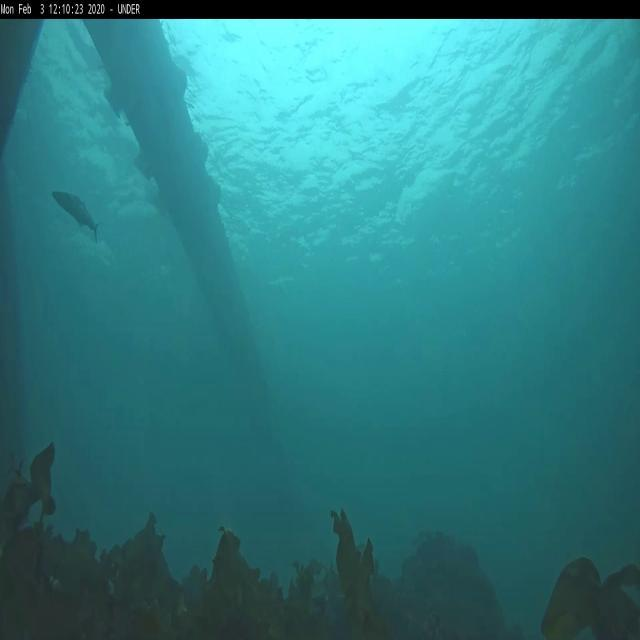fish: (52, 190, 100, 242)
